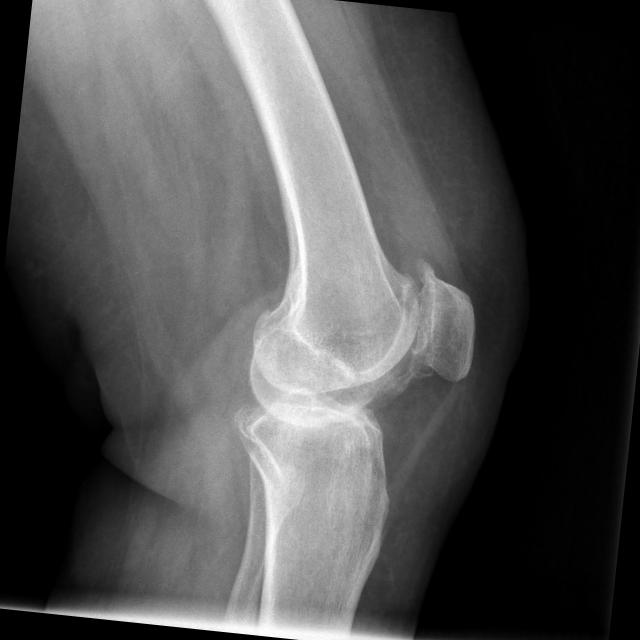Knee: (224, 235, 483, 488)
